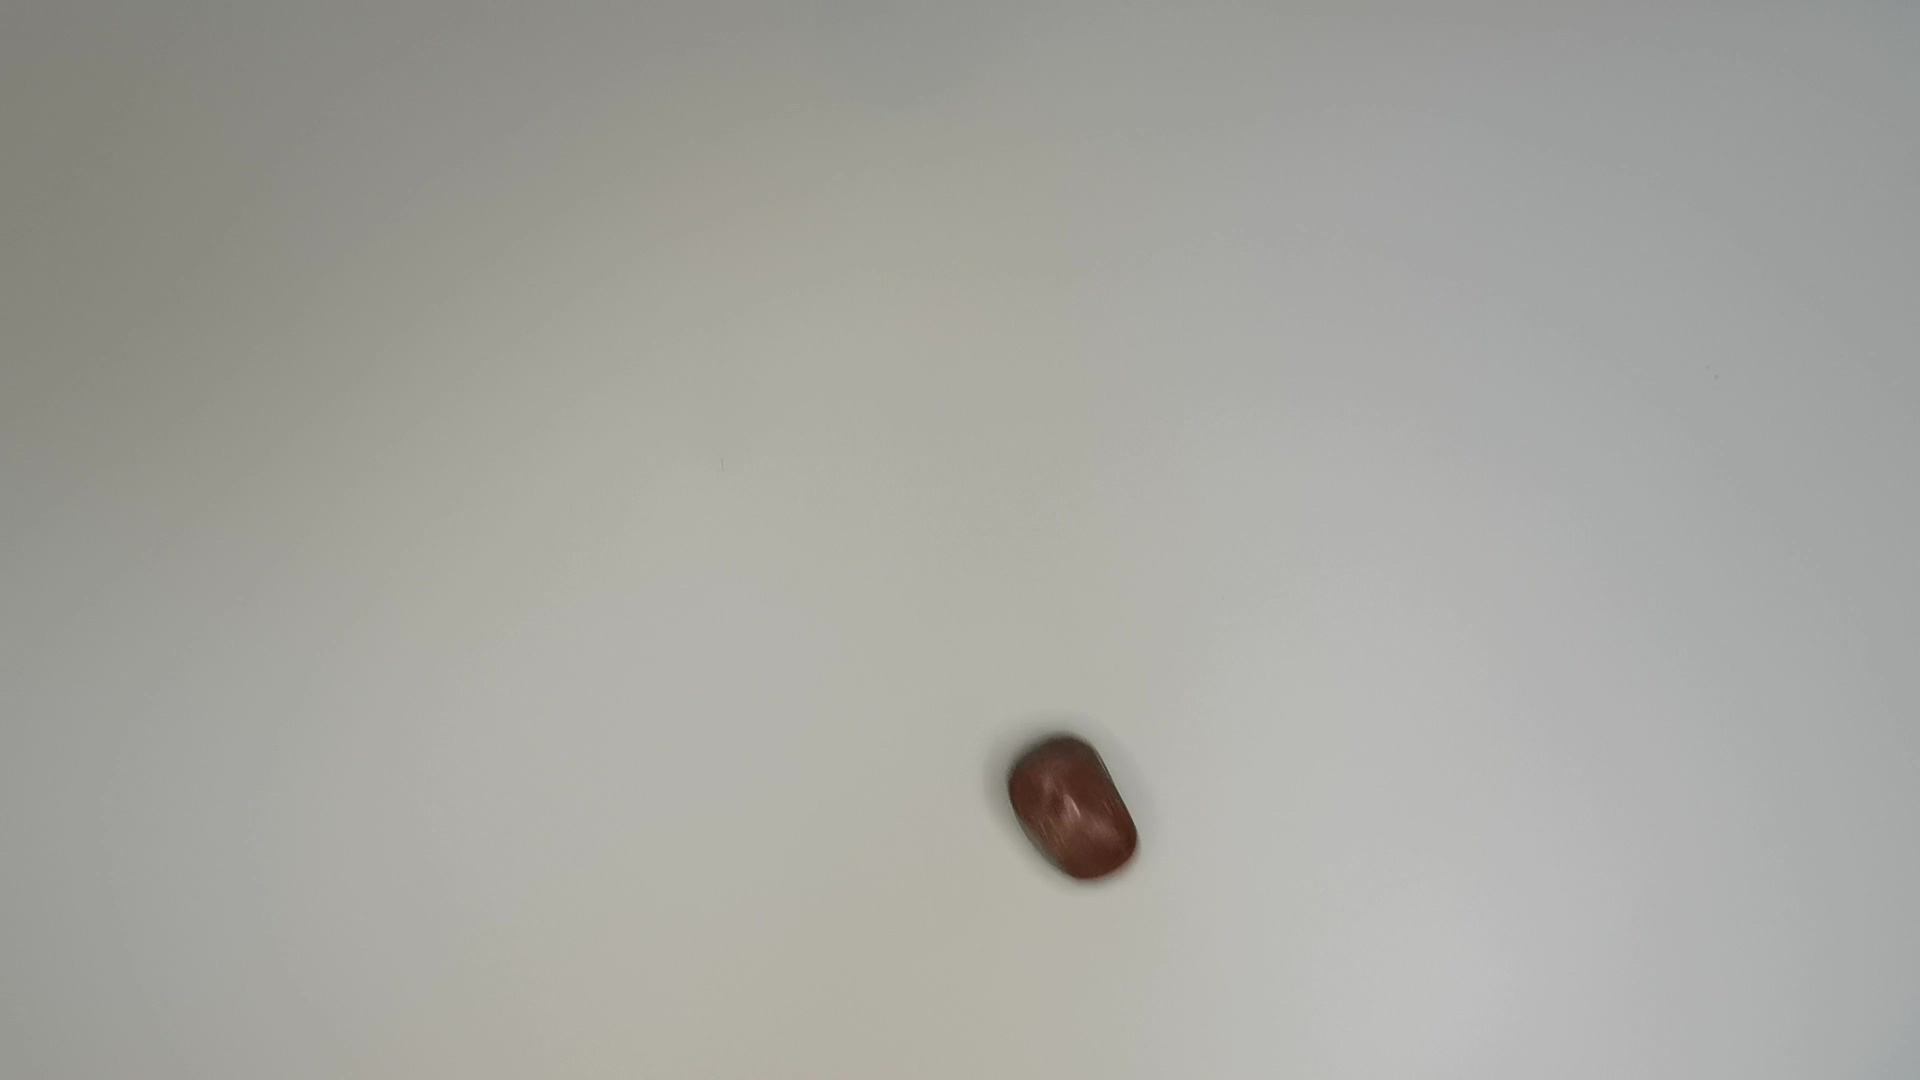ceramic: (1001, 727, 1149, 894)
